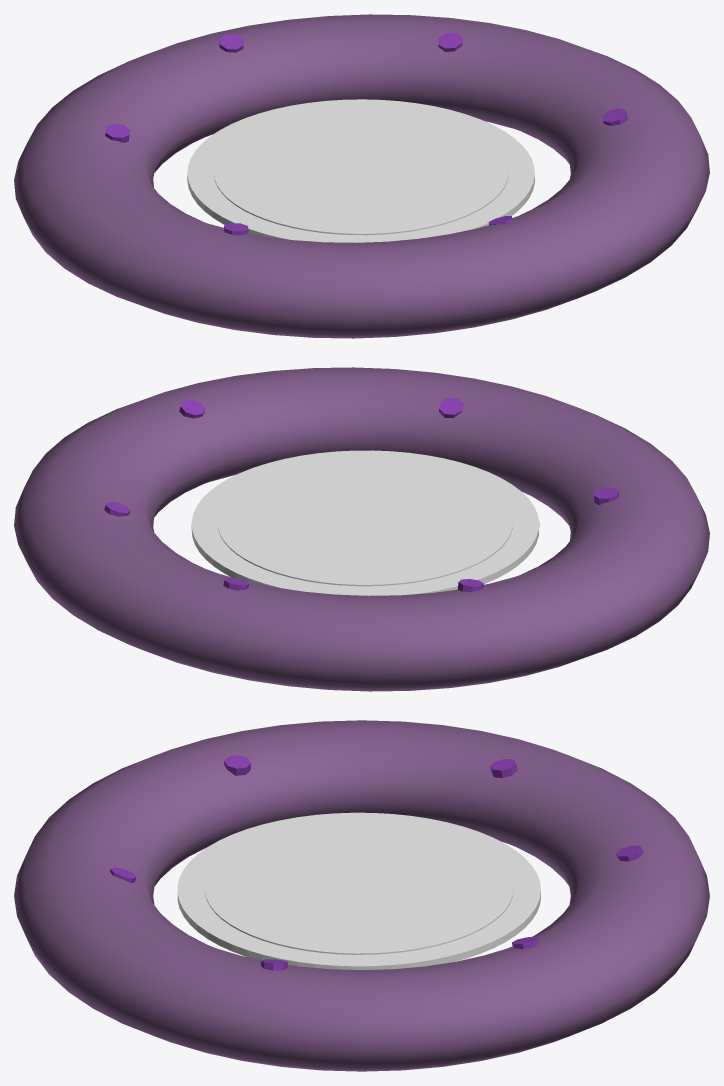
The model's file is arena.fbx.
3 views of the same model, one above another, from view 1: azimuth 30°, elevation 25°; view 2: azimuth 150°, elevation 25°; view 3: azimuth 270°, elevation 25° (orthographic). The views are drawn at different scales.
Visible parts, largest first — view 1: Torus, Circle, Circle.007; view 2: Torus, Circle, Circle.007; view 3: Torus, Circle, Circle.007.
Boxes of the visible parts, bbox=[...] form: Torus: bbox=[14, 14, 709, 338]; Circle: bbox=[213, 109, 508, 235]; Circle.007: bbox=[187, 99, 534, 242]; Torus: bbox=[14, 367, 709, 691]; Circle: bbox=[217, 460, 512, 586]; Circle.007: bbox=[191, 450, 539, 595]; Torus: bbox=[14, 720, 709, 1071]; Circle: bbox=[205, 823, 513, 954]; Circle.007: bbox=[177, 812, 540, 969].
Size of the model in its own units: 58909 by 7675 by 55487.
